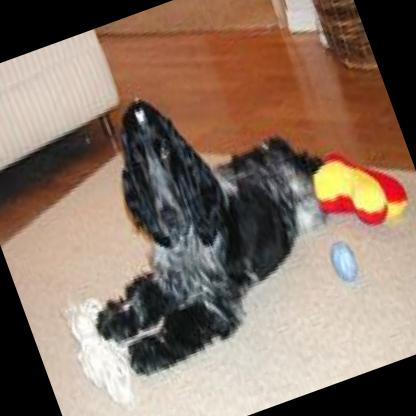cocker_spaniel: (25, 44, 367, 387)
